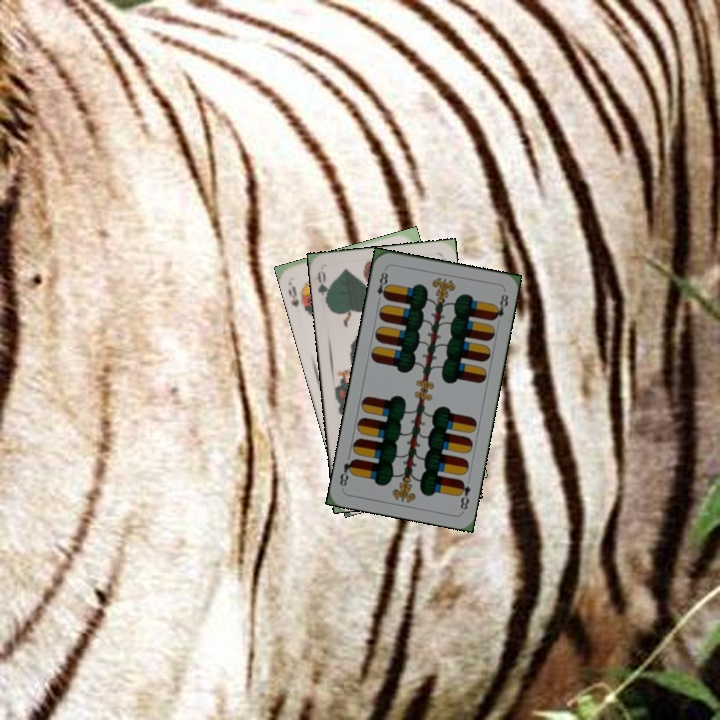E8: (373, 265, 392, 305), (454, 476, 473, 512)
GO: (313, 267, 334, 308)
SO: (284, 278, 310, 315)
